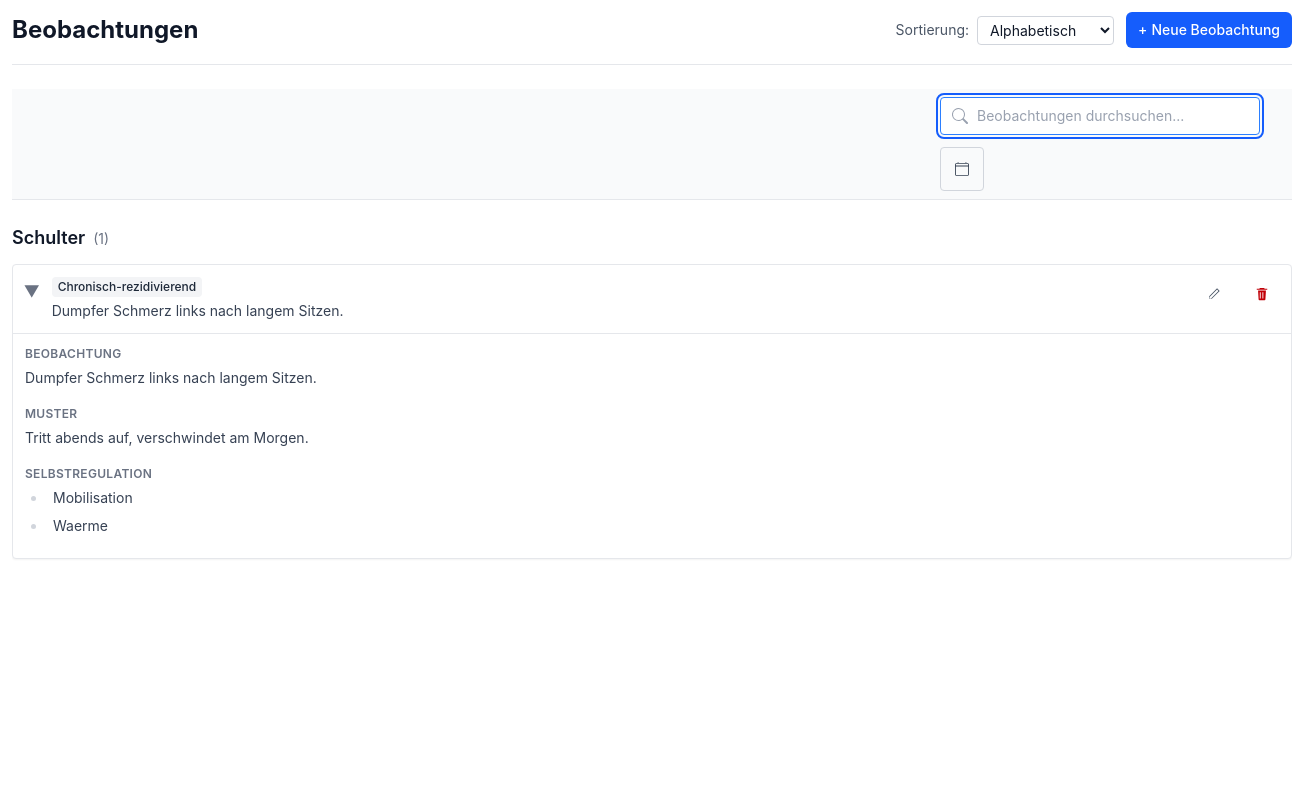
ObservationsView › search (O-17) › shows the no-matches message when query has zero hits
The image size is (1304, 812).
Type "xyz" into the search field at (1100, 116), box [940,97,1260,135]
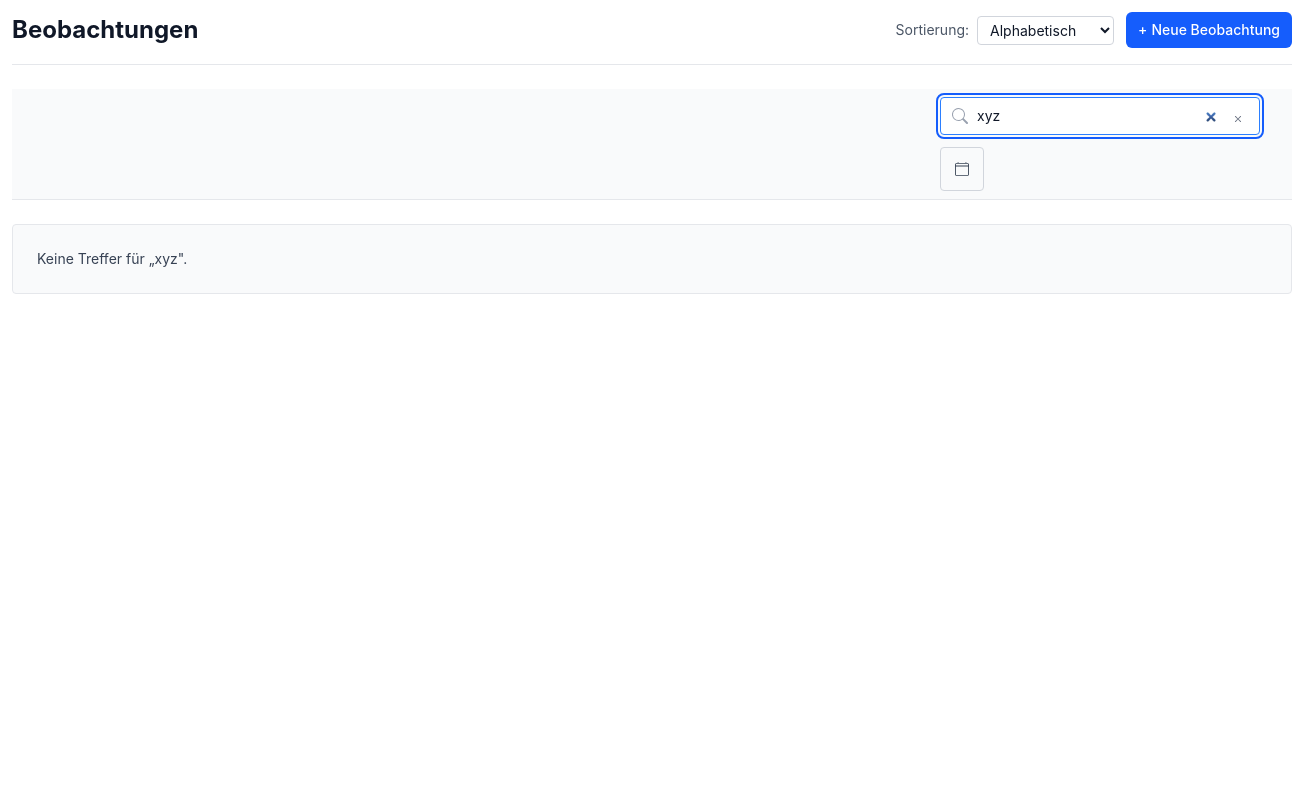
Expected: the message with test id "search-no-matches" shows "xyz", [37,250,187,267]
Expected: the text "Schulter" is gone
